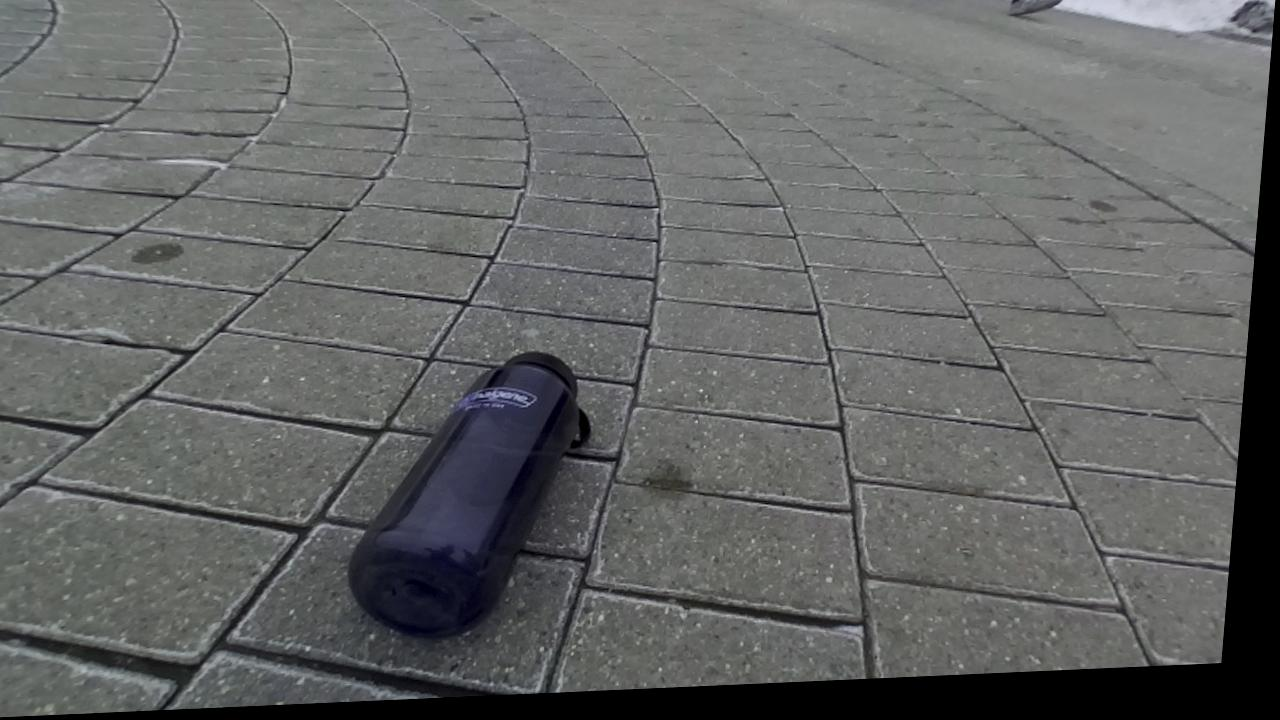bottle: (347, 352, 590, 637), (557, 374, 558, 375)
